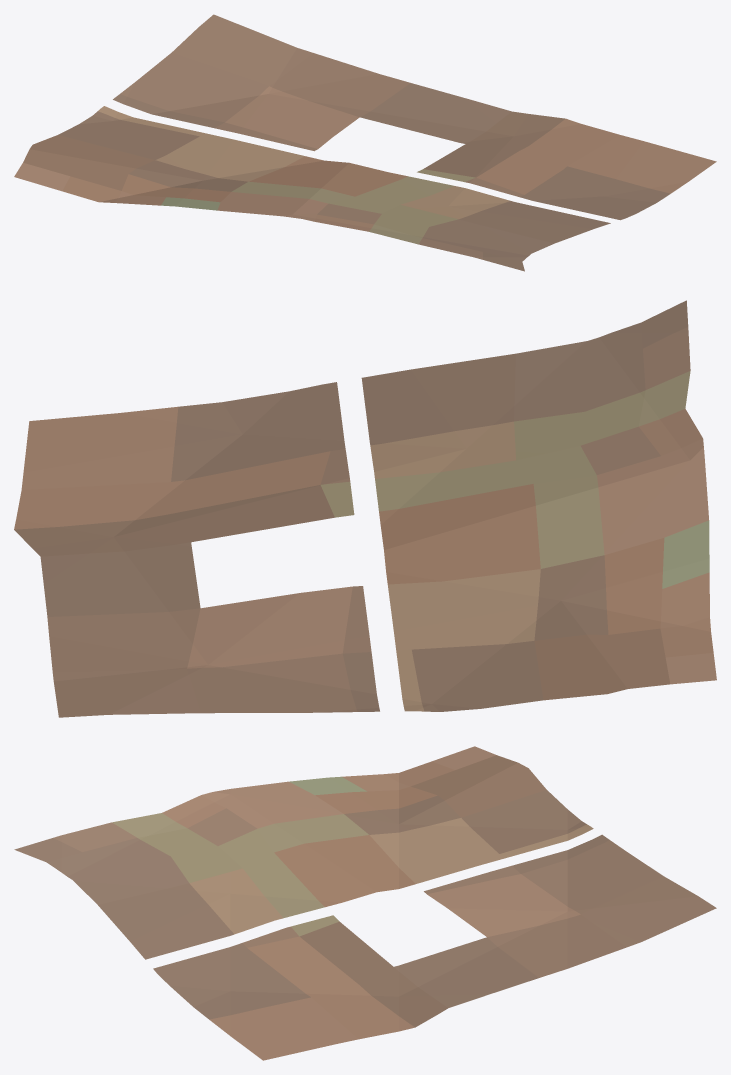
The model's file is farm_-6_8_soil.glb.
The picture shows the model from 3 angles, top to bottom: view 1: azimuth 30°, elevation 25°; view 2: azimuth 150°, elevation 25°; view 3: azimuth 270°, elevation 25°; orthographic projection. The views are drawn at different scales.
Parts seen in each view (by area): view 1: geometry_0; view 2: geometry_0; view 3: geometry_0.
Part boxes in pixels (<box>): geometry_0: <box>14,14,716,271</box>; geometry_0: <box>14,300,716,717</box>; geometry_0: <box>14,746,716,1060</box>.
Size of the model in its own units: 304 by 34.5 by 333.
